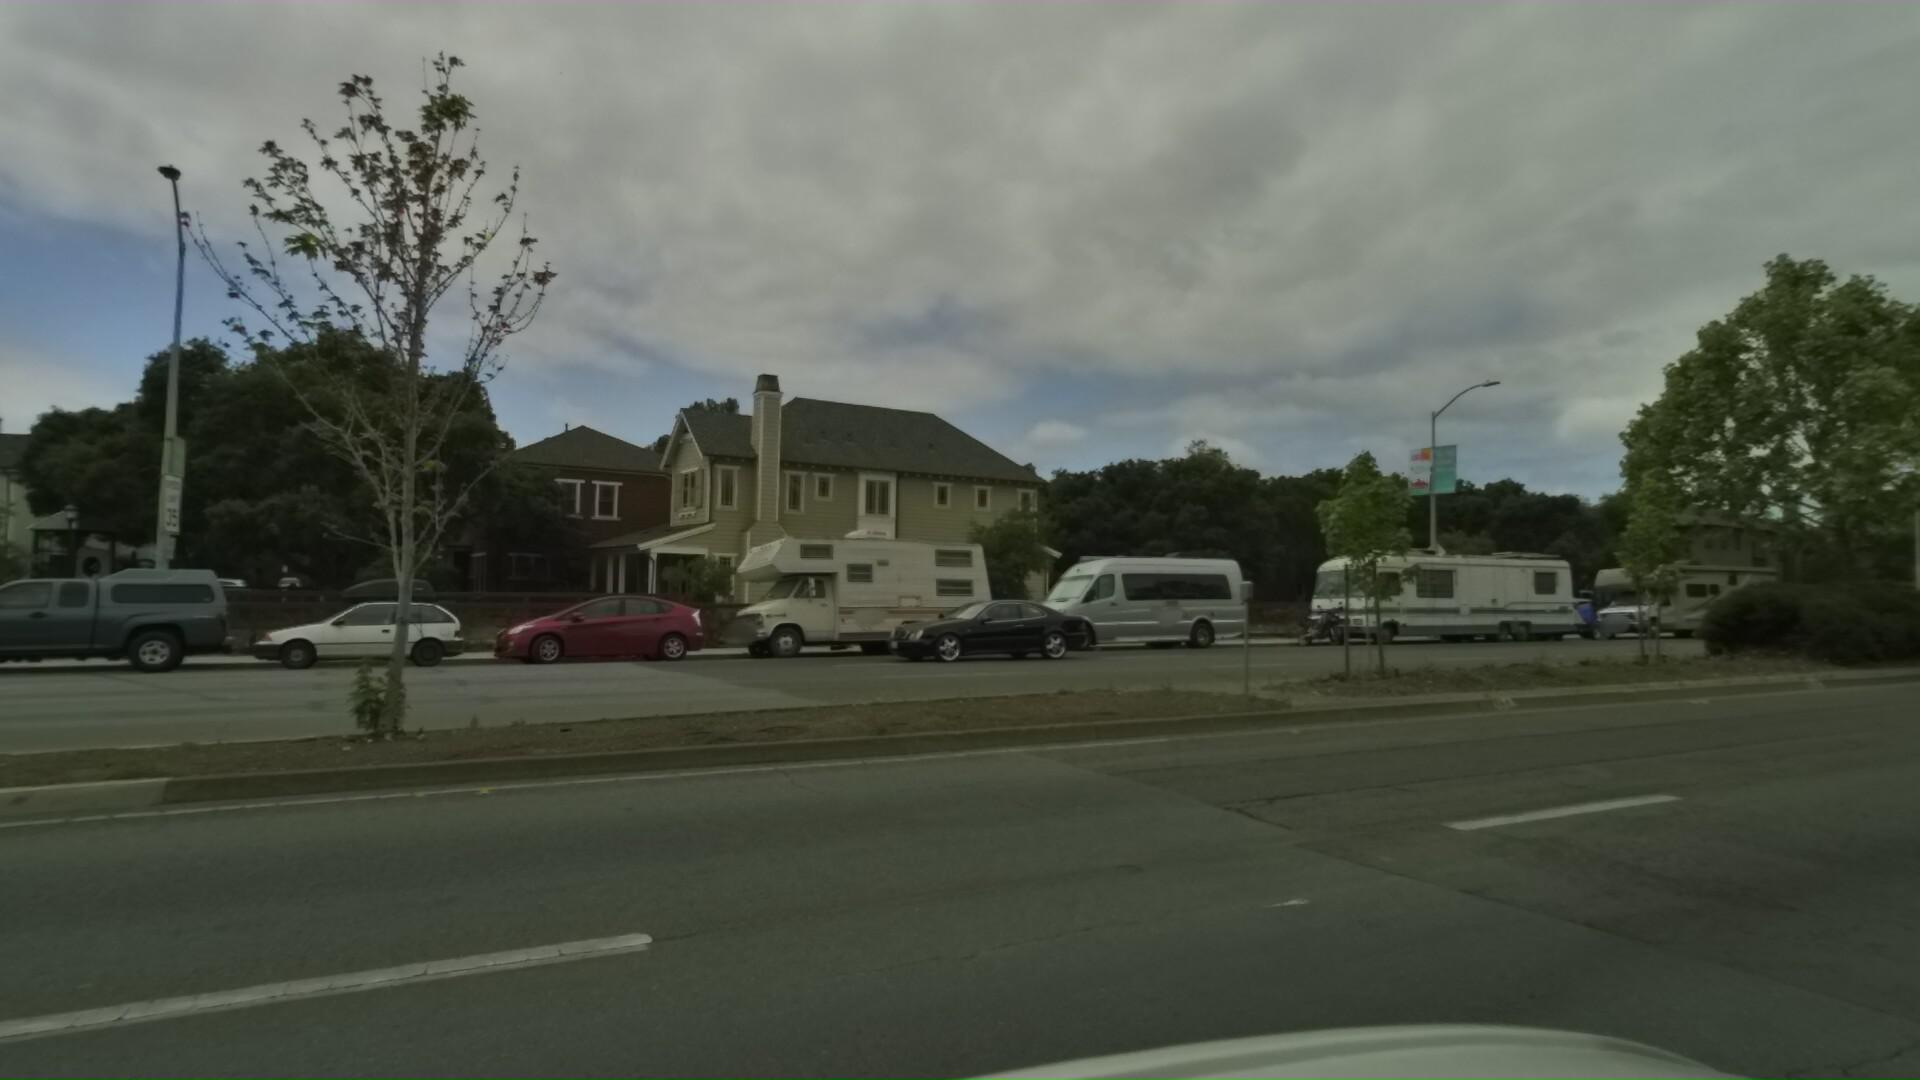car: (982, 531, 1246, 649), (202, 567, 446, 676), (454, 578, 691, 658), (843, 593, 1059, 673)
motorcycle: (1266, 595, 1344, 640)
other_vehicle: (698, 512, 996, 654), (1280, 525, 1578, 640), (1564, 542, 1793, 632), (1523, 583, 1623, 636)
